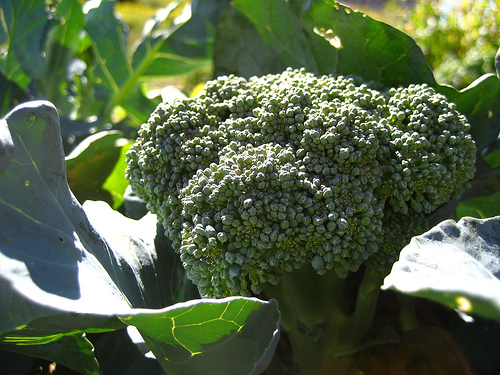broccoli: (112, 1, 474, 325)
